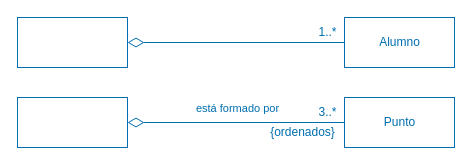
Image size: 472x165. Some labels were removed from this diagram. Here are the shapes that lost their labels. From the top down, the centre of each, then its label:
point (72, 42): Curso
point (72, 122): Polígono
